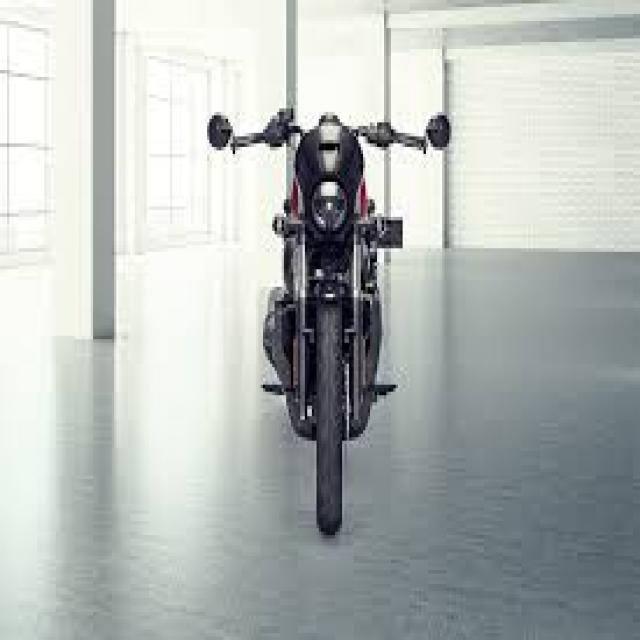Bike: (206, 104, 452, 538)
